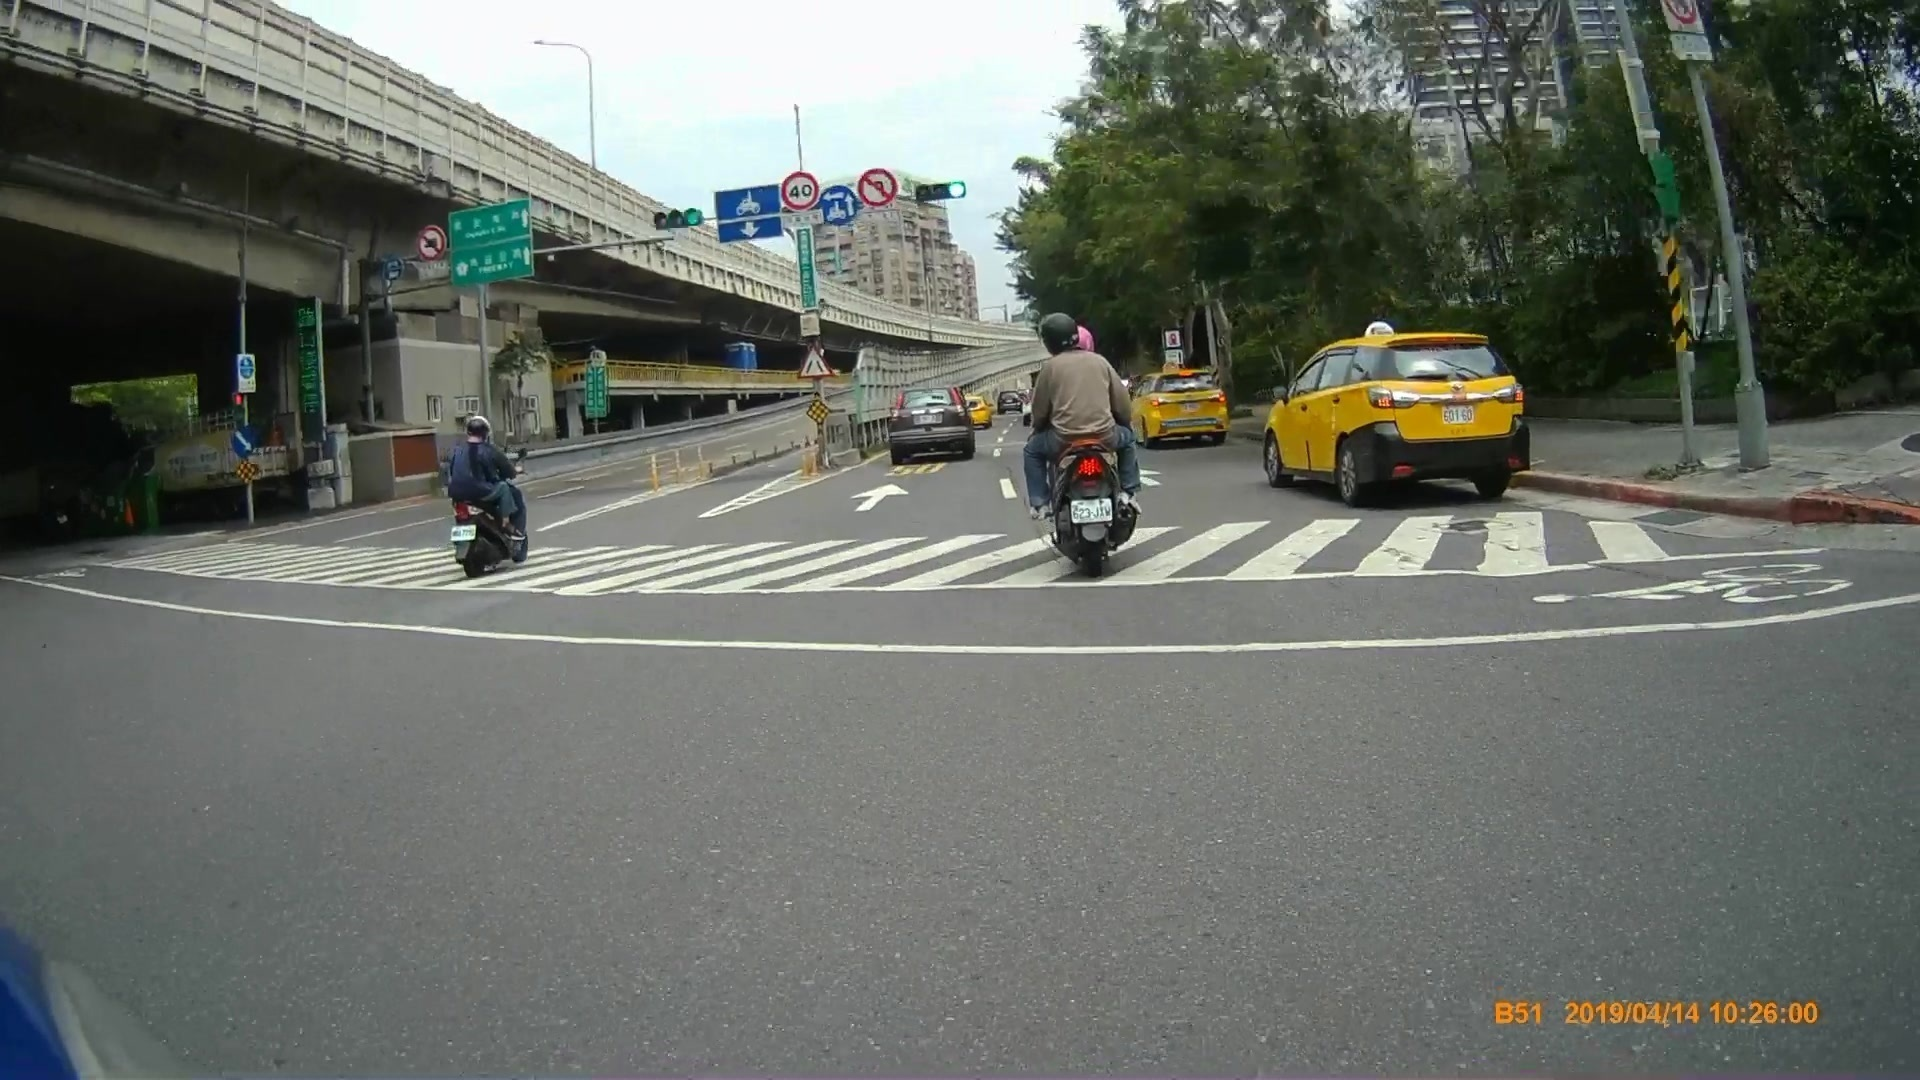License_plate: (1068, 495, 1116, 522), (1439, 406, 1478, 427), (445, 522, 477, 543)
